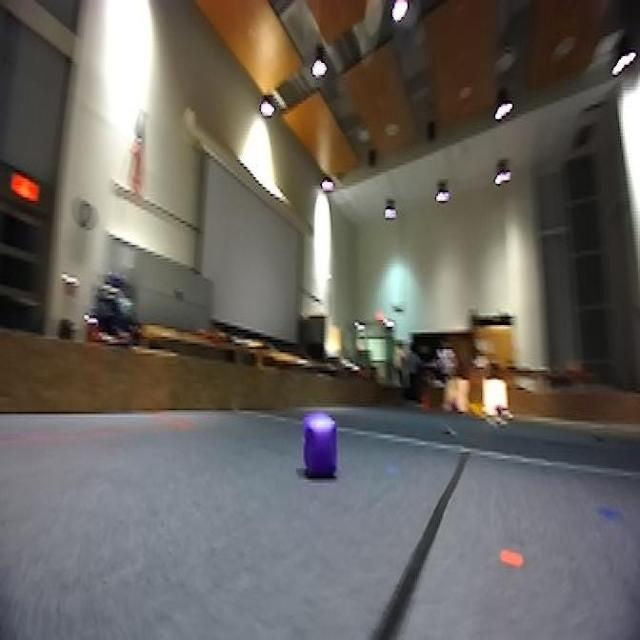frc_cube: (300, 414, 340, 482)
